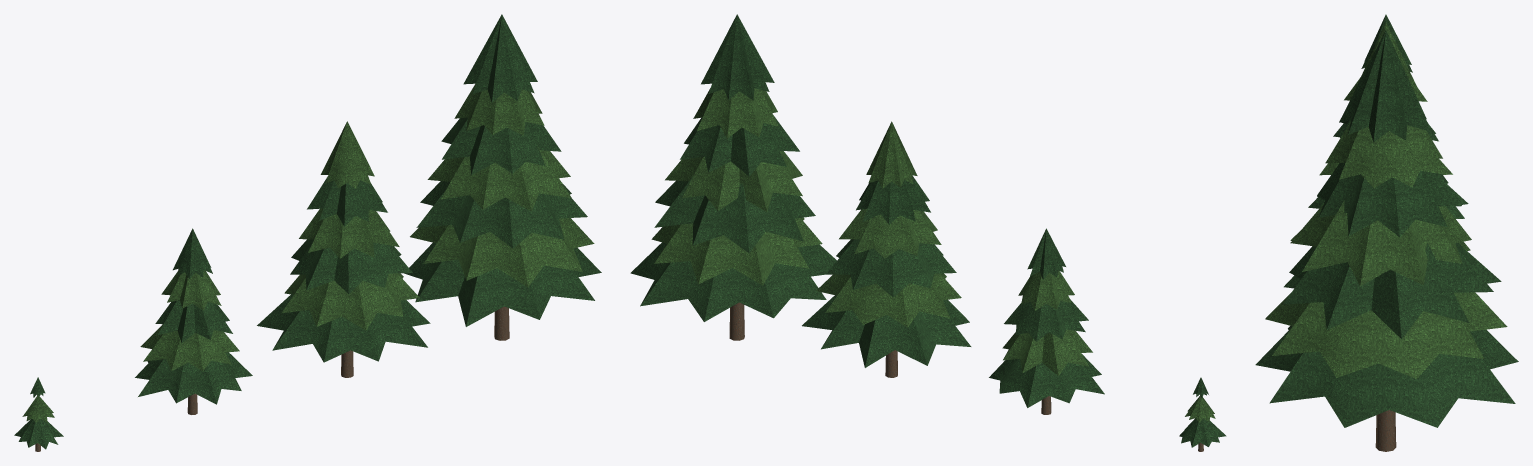
Rendered from pines.glb.
3 views of the same model, side by side, from view 1: azimuth 30°, elevation 25°; view 2: azimuth 150°, elevation 25°; view 3: azimuth 270°, elevation 25° (orthographic). The views are drawn at different scales.
Visible parts, largest first — view 1: Pine_3, Pine_2, Pine_1, Pine_0; view 2: Pine_3, Pine_2, Pine_1, Pine_0; view 3: Pine_3, Pine_2, Pine_1.
Part boxes in pixels (x1=…): Pine_3: x1=404, y1=14, x2=601, y2=340; Pine_2: x1=257, y1=121, x2=430, y2=377; Pine_1: x1=135, y1=228, x2=252, y2=414; Pine_0: x1=14, y1=377, x2=63, y2=451; Pine_3: x1=630, y1=14, x2=836, y2=340; Pine_2: x1=802, y1=121, x2=971, y2=377; Pine_1: x1=989, y1=228, x2=1104, y2=414; Pine_0: x1=1179, y1=377, x2=1226, y2=451; Pine_3: x1=1255, y1=30, x2=1518, y2=451; Pine_2: x1=1284, y1=22, x2=1501, y2=288; Pine_1: x1=1308, y1=14, x2=1468, y2=208.
Bounding box in the file's own units: 25.82 × 14 × 8.01.
3 materials, 3 textured.
